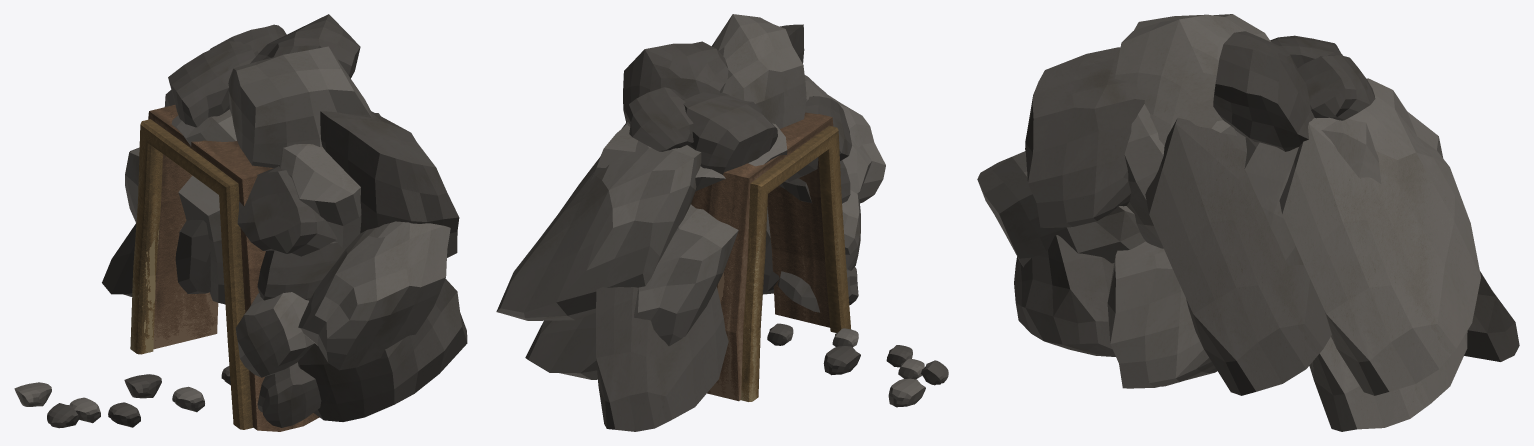
The model's file is CaiShiChang01.fbx.
The picture shows the model from 3 angles, left to right: view 1: azimuth 30°, elevation 25°; view 2: azimuth 150°, elevation 25°; view 3: azimuth 270°, elevation 25°; orthographic projection. The views are drawn at different scales.
Parts seen in each view (by area): view 1: CaiShiChang01; view 2: CaiShiChang01; view 3: CaiShiChang01.
Boxes of the visible parts, <box> form: CaiShiChang01: <box>14,14,467,431</box>; CaiShiChang01: <box>496,14,948,431</box>; CaiShiChang01: <box>977,14,1519,431</box>.
Size of the model in its own units: 502 by 403 by 557.
